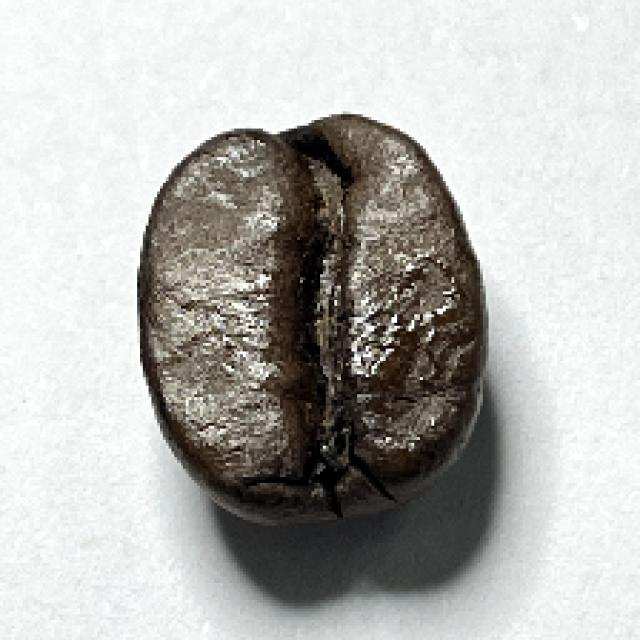bean: (135, 112, 489, 526)
